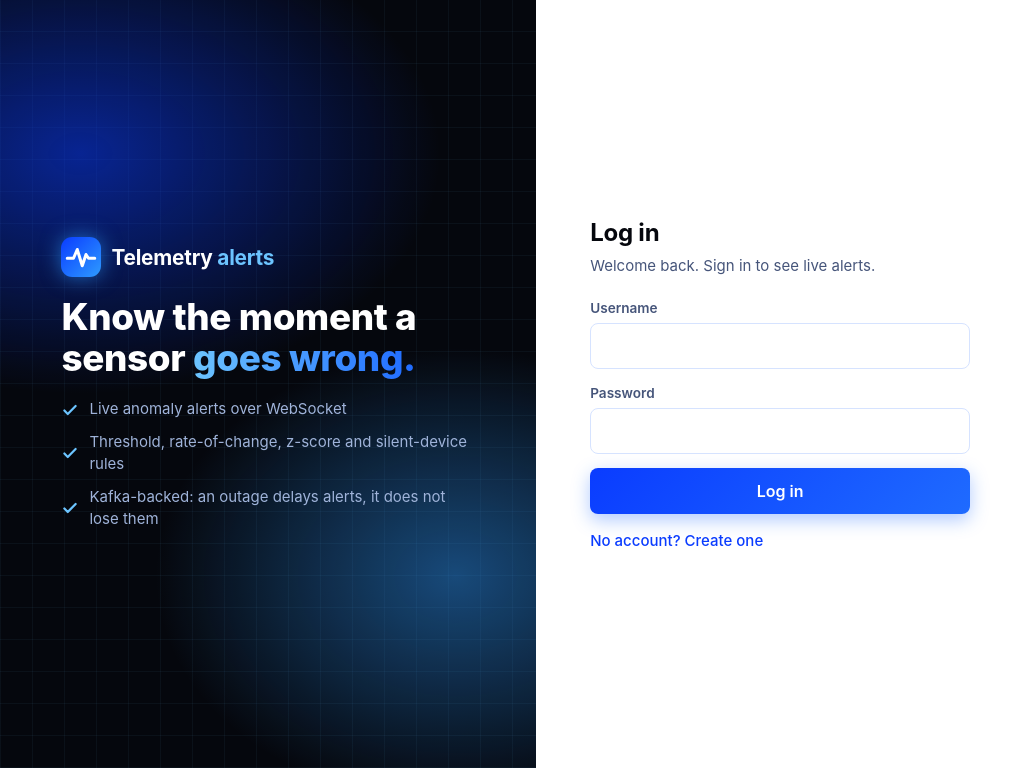
login flow › registers a new account
Click the button "No account? Create one" at (677, 542), box [590,530,763,553]
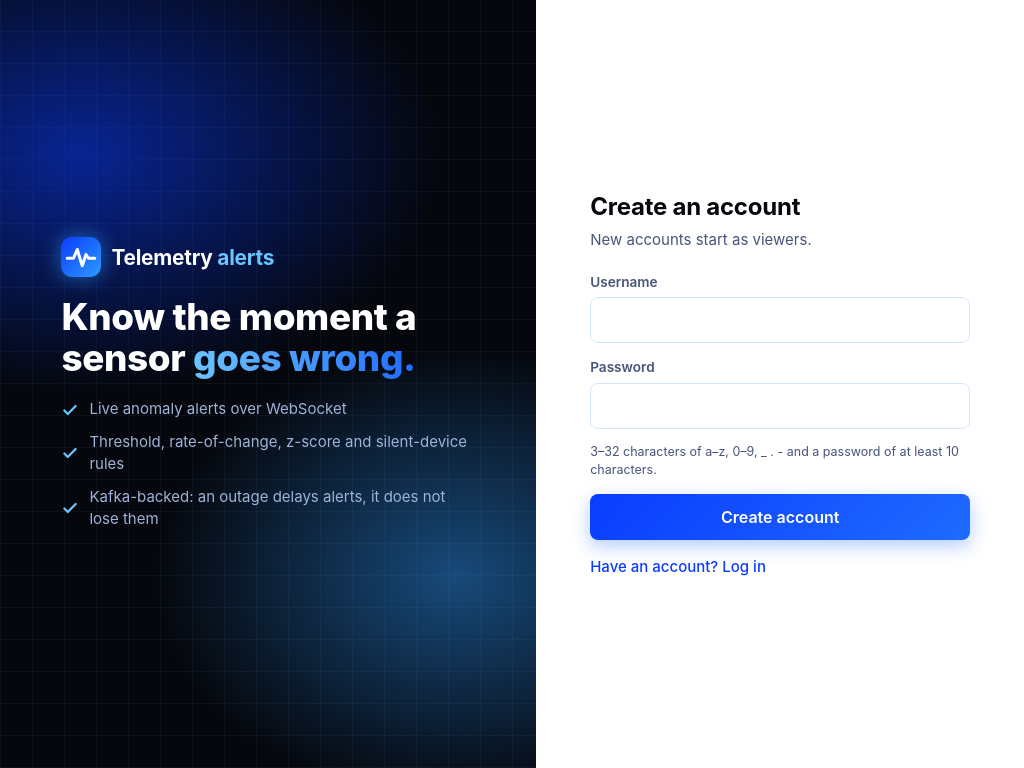
Type "newbie" into the field labelled "Username" at (780, 320), box [590,297,970,343]
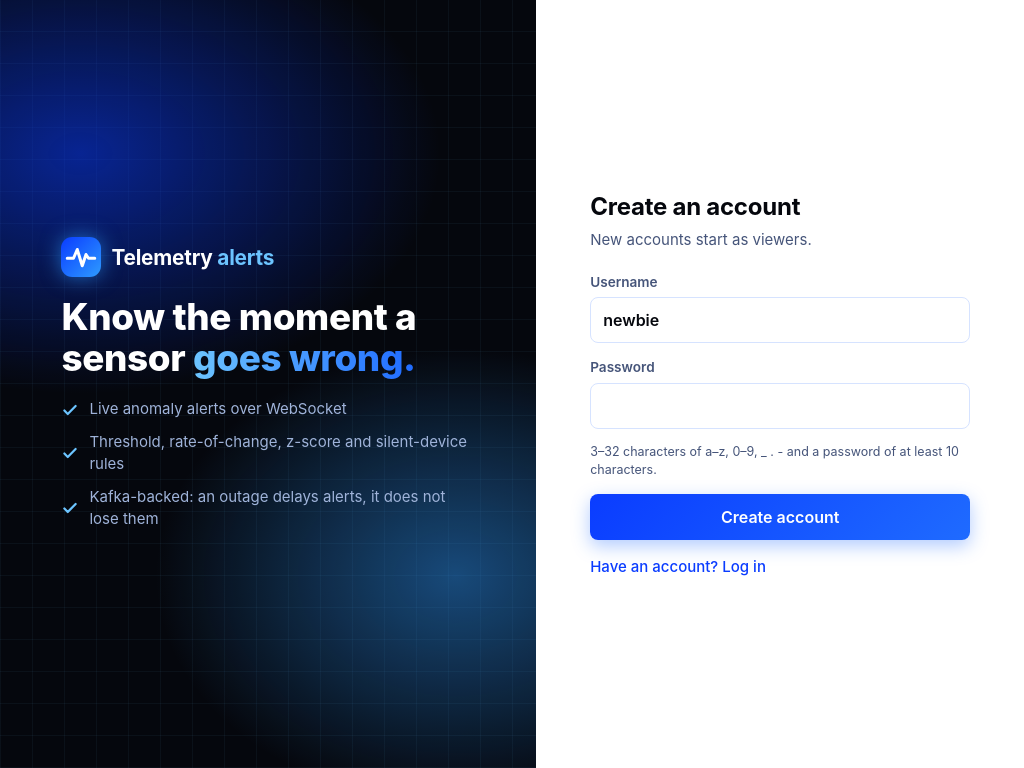
Type "long-enough-password" into the password field labelled "Password" at (780, 406), box [590,383,970,429]
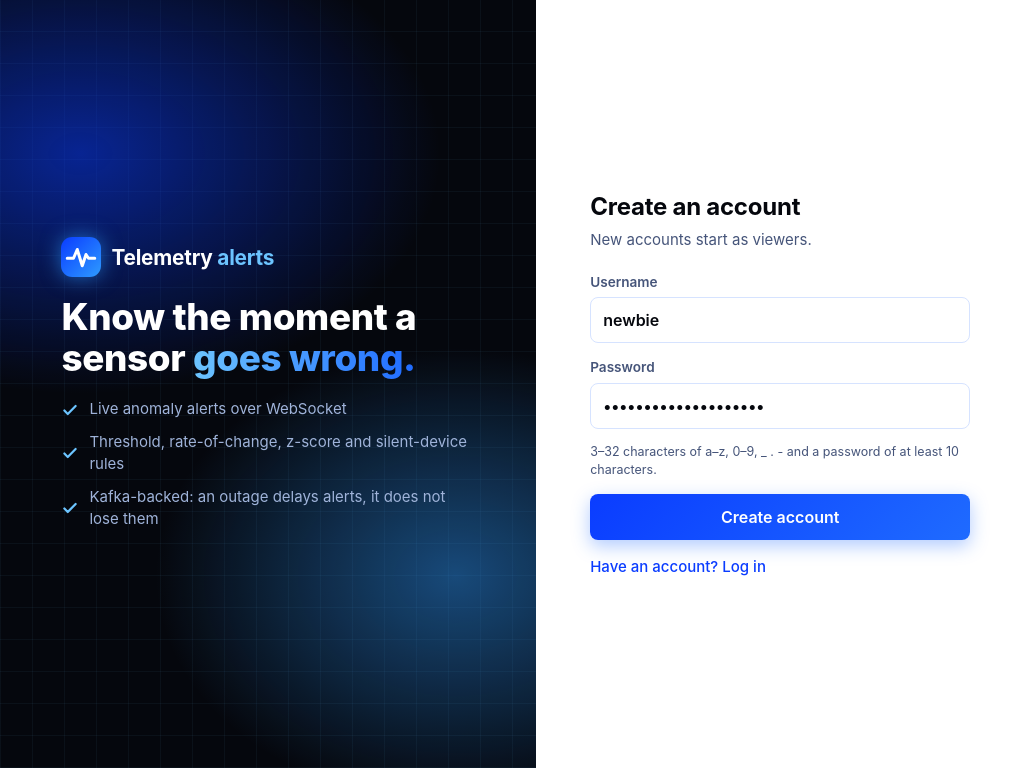
Click the button "Create account" at (780, 517), box [590,494,970,540]
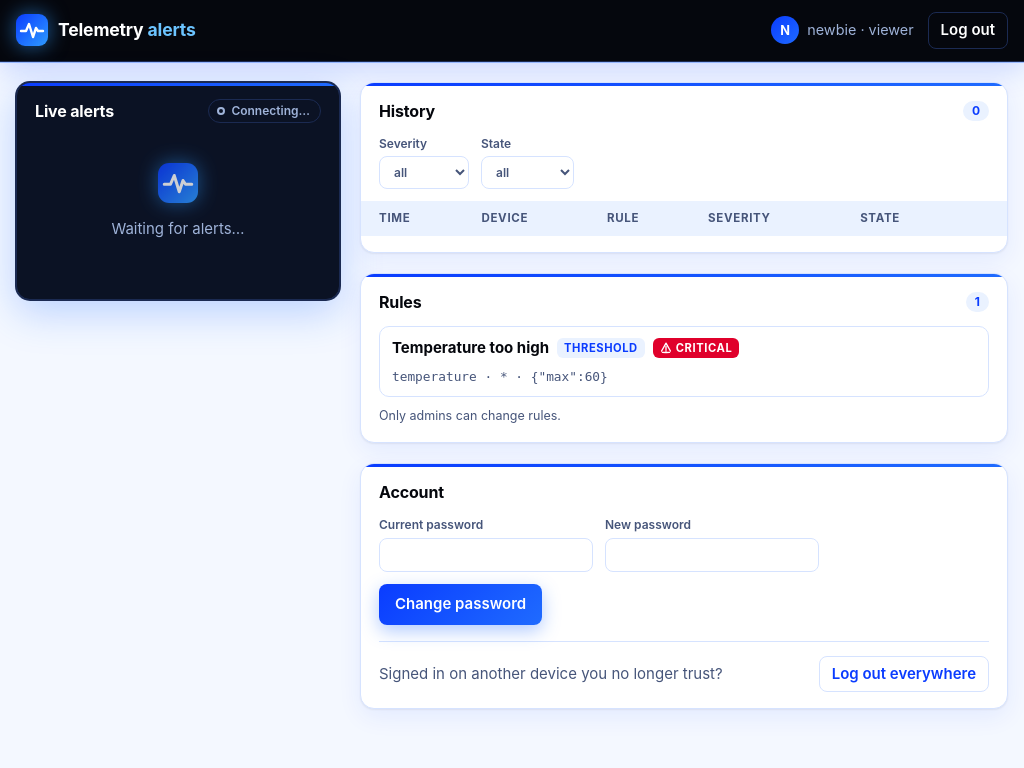
Expected: the text "newbie · viewer" is shown, [807,19,914,41]
